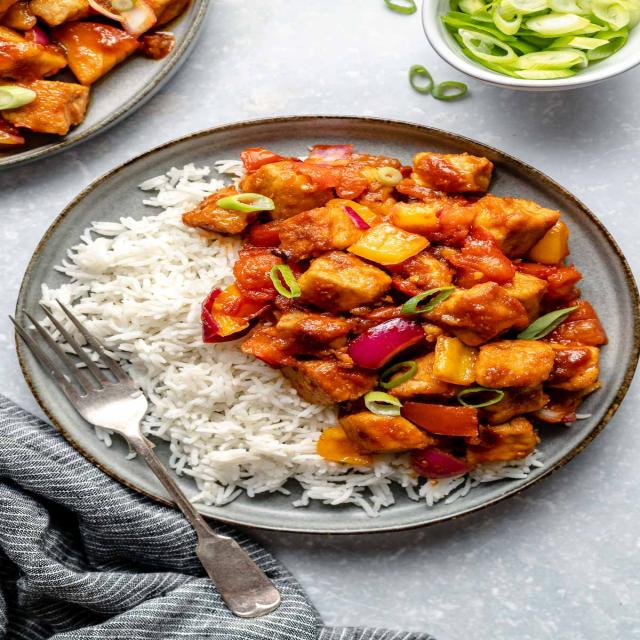Chicken: (183, 145, 607, 478)
Rice: (42, 164, 541, 517)
